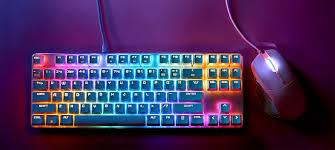keyboard: (29, 52, 244, 130)
